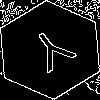Y: (25, 25, 84, 82)
